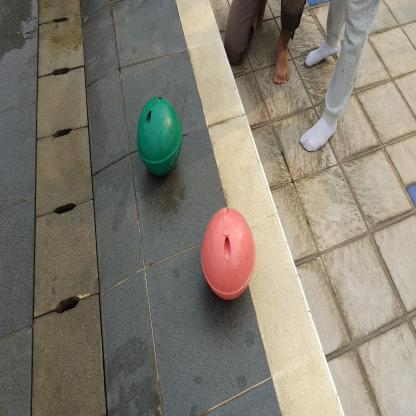green_buoy: (131, 90, 184, 194)
red_buoy: (197, 205, 260, 306)
